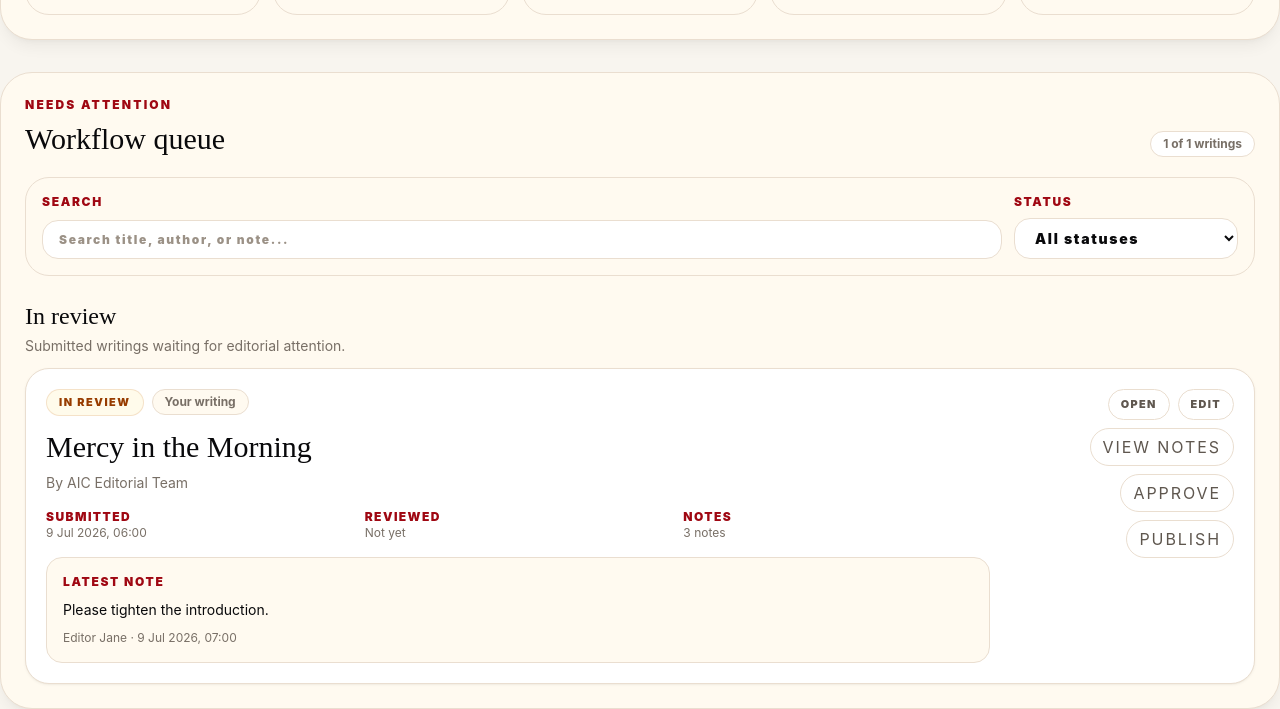
Scenario: WritingEditorialPage › opens editorial notes, loads them by writing id, and renders them chronologically
(page scrolled)
Step 1. Click the button "View notes" → (1162, 447), box x1=1090 y1=428 x2=1234 y2=466
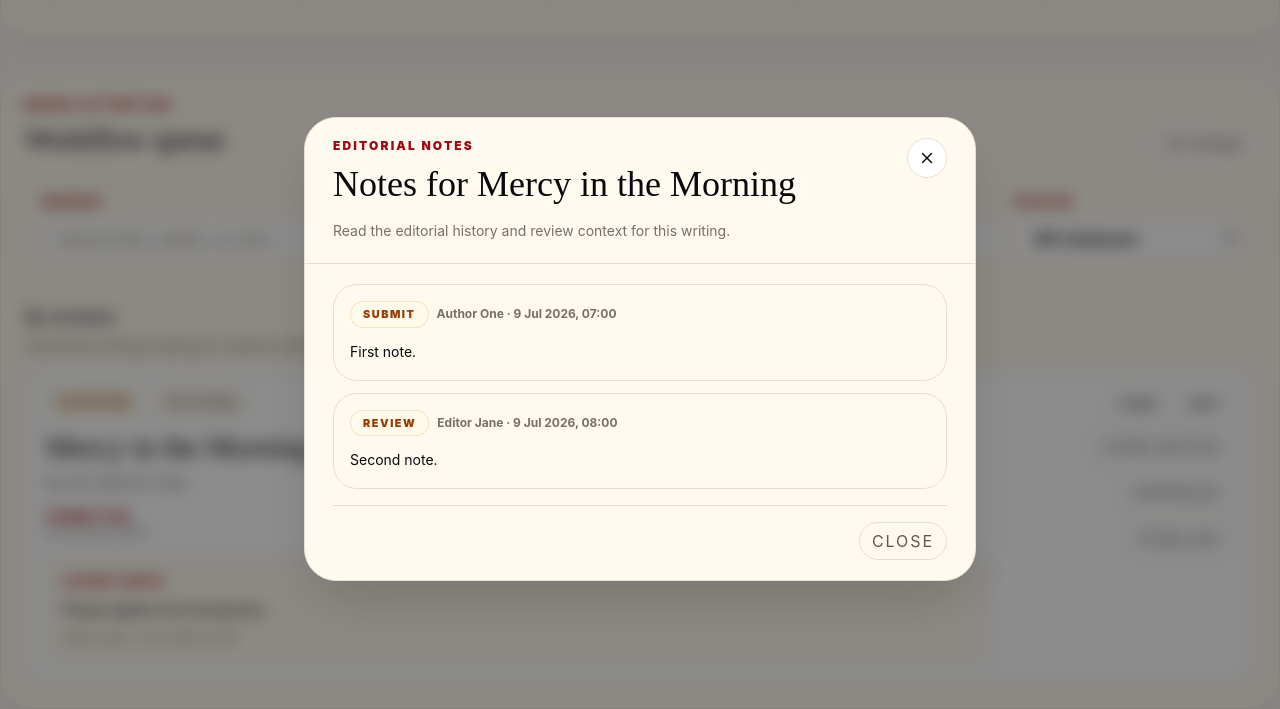
Expected: the text "Submit" is shown, x1=25 y1=337 x2=345 y2=354
Now the text "Notes for Mercy in the Morning" is shown, box x1=333 y1=162 x2=796 y2=207
Now the text "Author One" is shown, box x1=436 y1=306 x2=504 y2=321
